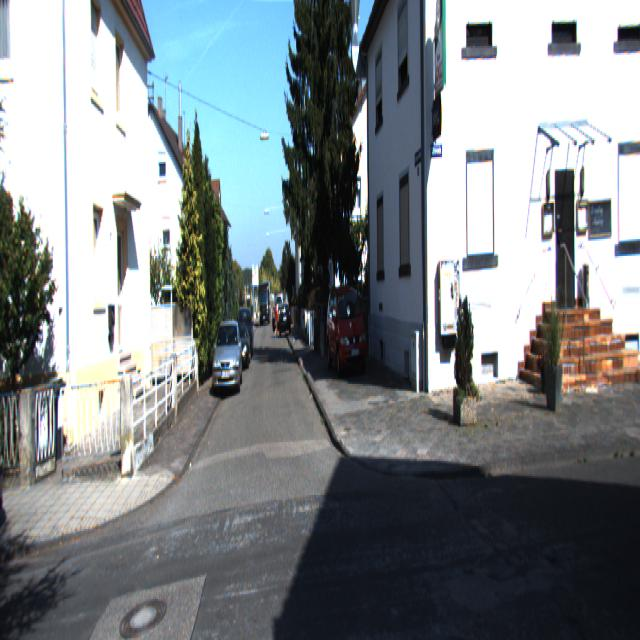Car: (325, 284, 367, 382), (212, 315, 242, 395), (230, 319, 250, 370)
